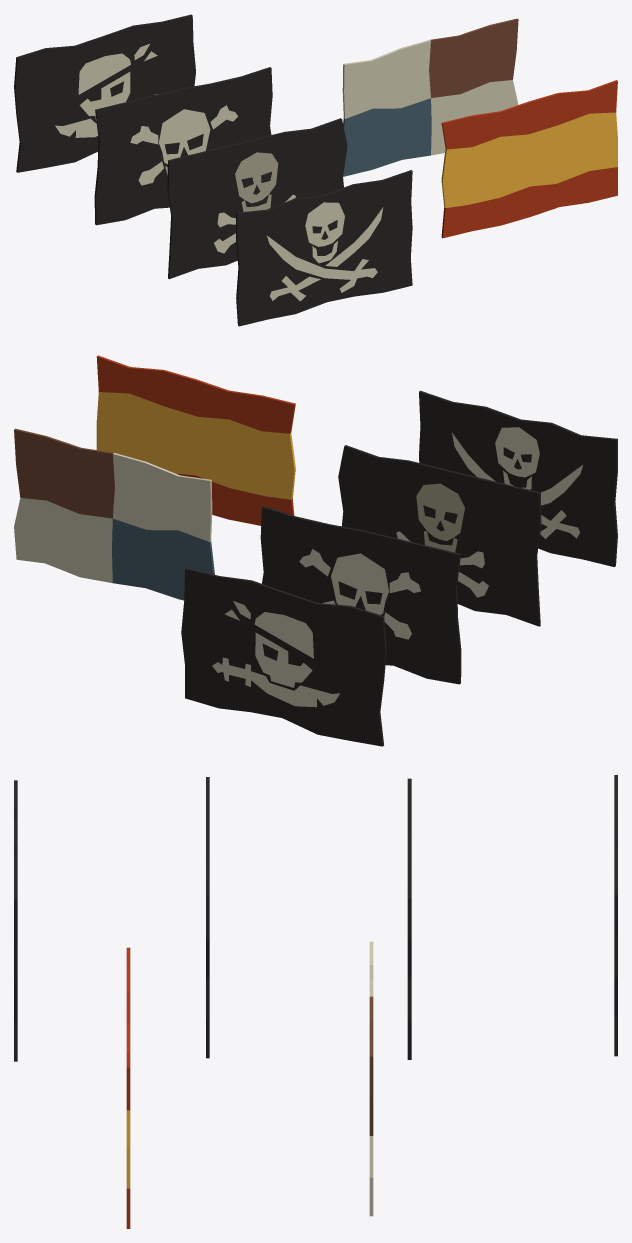
File: FlagsExtended.fbx
3 renders of one model, top to bottom at view 1: azimuth 30°, elevation 25°; view 2: azimuth 150°, elevation 25°; view 3: azimuth 270°, elevation 25°, orthographic. The views are drawn at different scales.
Visible parts, largest first — view 1: Flag_5, Flag_1, Flag_6, Flag_4, Flag_2, Flag_3; view 2: Flag_4, Flag_6, Flag_5, Flag_2, Flag_3, Flag_1; view 3: Flag_3, Flag_5, Flag_6, Flag_4, Flag_2, Flag_1.
Boxes of the visible parts, x1,y1,x2,y2 form: Flag_5: (441,80,617,238); Flag_1: (236,170,412,326); Flag_6: (342,18,518,176); Flag_4: (14,14,195,172); Flag_2: (167,118,347,279); Flag_3: (94,67,272,225); Flag_4: (181,568,386,746); Flag_6: (14,428,214,600); Flag_5: (96,355,295,525); Flag_2: (338,445,541,626); Flag_3: (260,506,461,684); Flag_1: (419,390,617,566); Flag_3: (407,778,411,1059); Flag_5: (126,947,130,1228); Flag_6: (369,941,373,1216); Flag_4: (614,775,617,1056); Flag_2: (206,777,209,1058); Flag_1: (14,780,17,1061).
Size of the model in its own units: 559 by 151 by 485.
